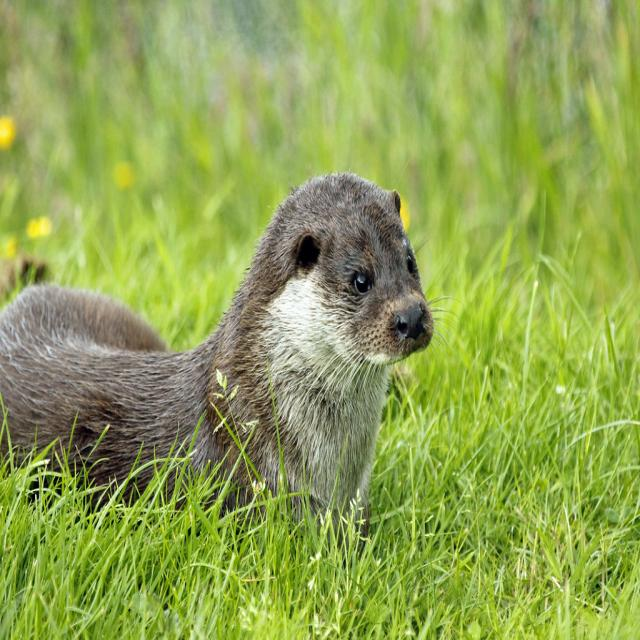otter: (1, 172, 434, 498)
